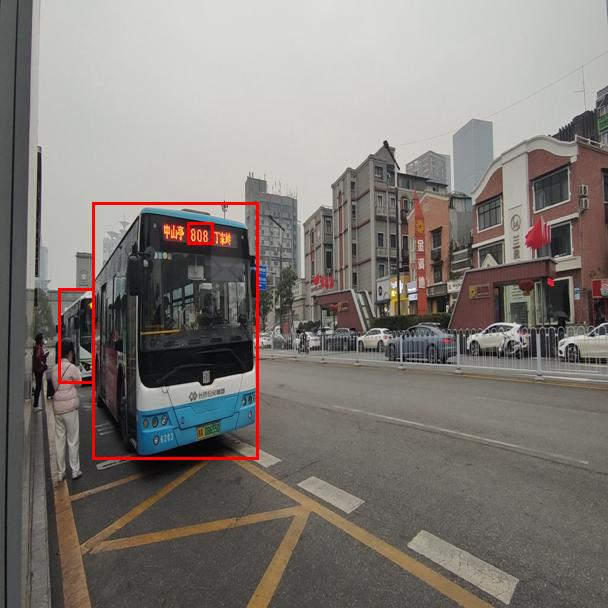bus: (92, 202, 258, 459), (58, 288, 94, 383)
screen: (187, 222, 213, 244)
